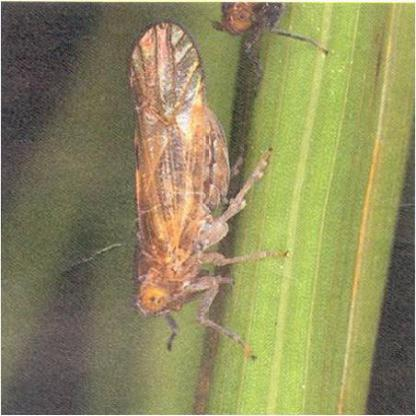brown-planthopper: (125, 17, 229, 320)
